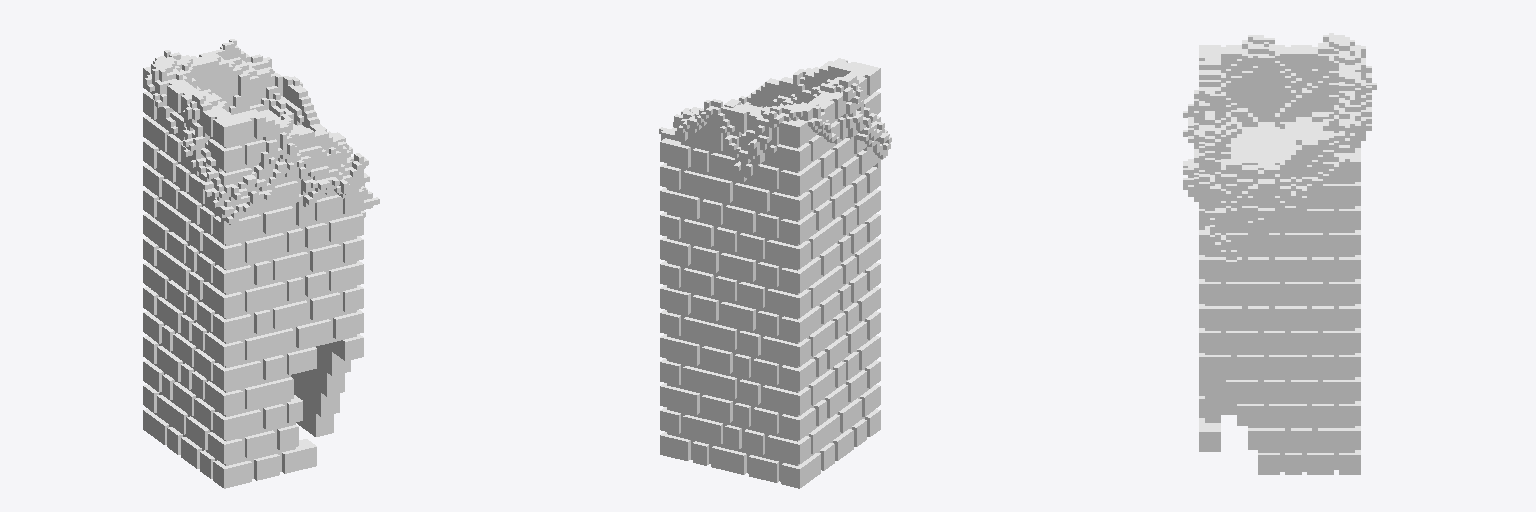
File: nest2.obj
3 renders of one model, left to right at view 1: azimuth 30°, elevation 25°; view 2: azimuth 150°, elevation 25°; view 3: azimuth 270°, elevation 25°, orthographic.
Parts seen in each view (by area): view 1: object 1; view 2: object 1; view 3: object 1.
Boxes of the visible parts, <box> form: object 1: <box>143,39,379,488</box>; object 1: <box>659,58,891,488</box>; object 1: <box>1183,33,1376,474</box>.
Bounding box in the file's own units: 3.7 × 7.6 × 3.6.